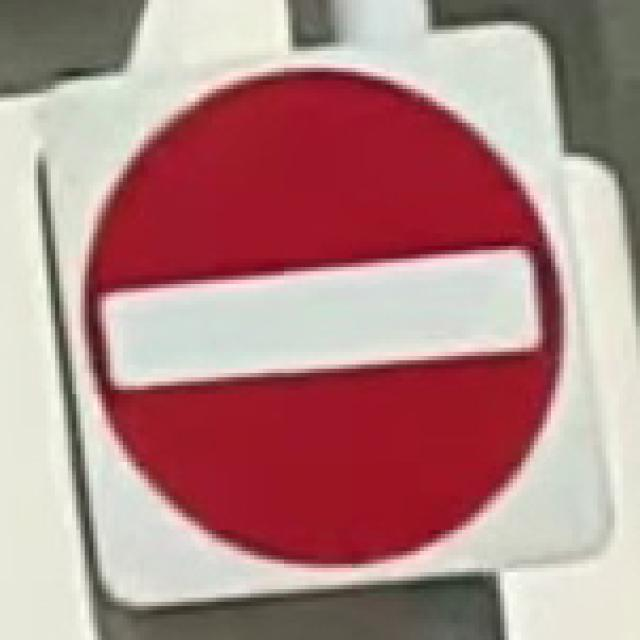noentry_sign: (72, 60, 572, 572)
